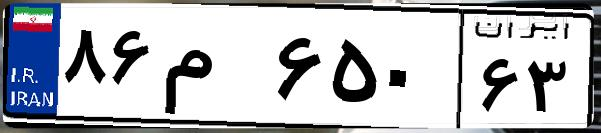0: (385, 28, 445, 110)
3: (525, 38, 570, 115)
5: (330, 28, 385, 110)
6: (270, 28, 330, 110), (475, 38, 525, 113), (110, 28, 158, 98)
8: (57, 26, 110, 100)
م: (158, 20, 270, 120)
